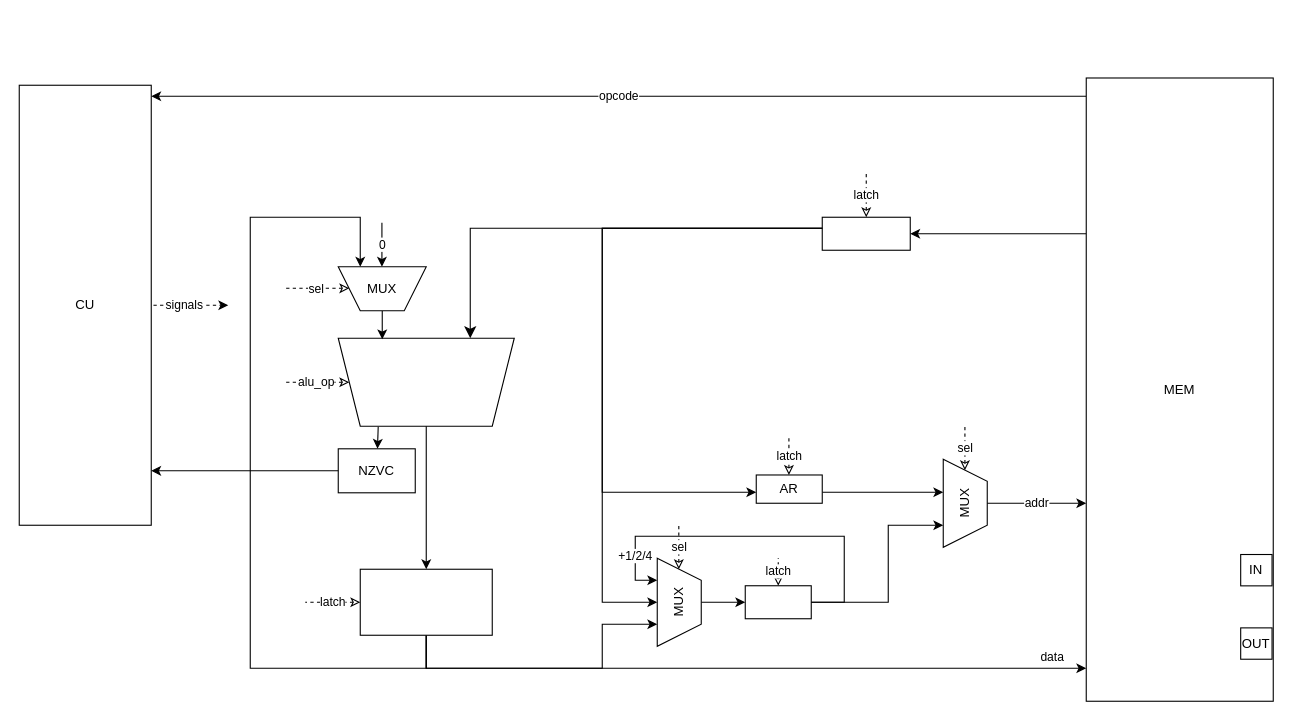
The diagram is 1293 pixels wide and 721 high, and some of its shapes have lost their labels. Each missing label, with the centre of its shape:
ACC: the point at 425,601
ALU: the point at 425,381
DR: the point at 865,233
PC: the point at 777,602
